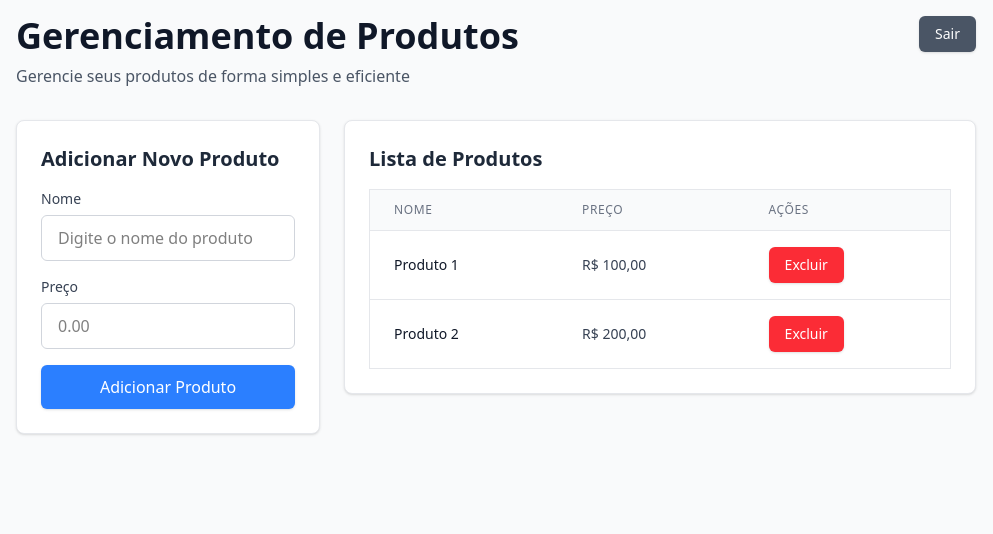
Test: Products › exibe erro ao falhar exclusão
This screenshot has width=993, height=534.
Expected: the text "Produto 1" is shown, [370,230,558,300]
Click the button "Excluir" in the row of "Produto 1" at [806, 265], box [769,247,844,283]
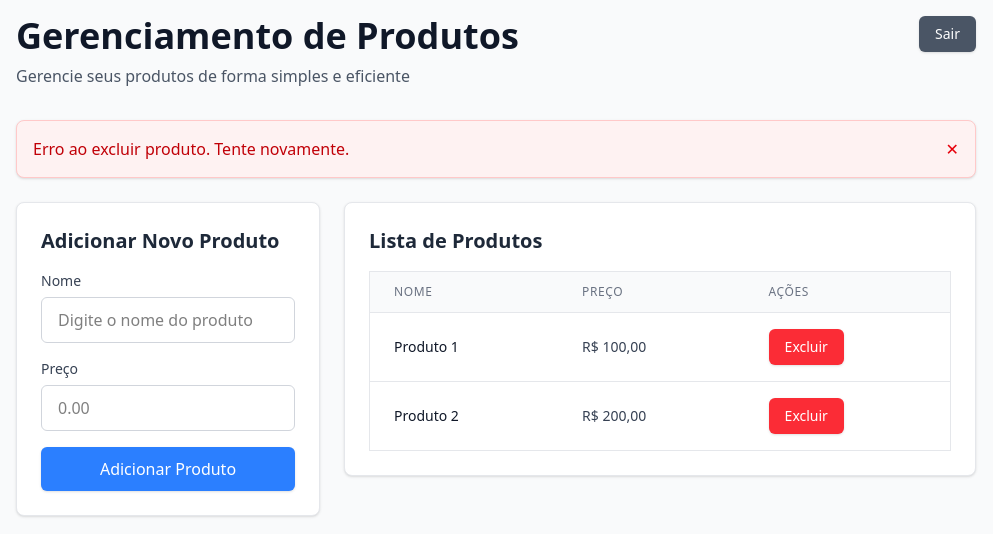
Result: the text "Erro ao excluir produto. Tente novamente." is shown at [33,138,349,160]
